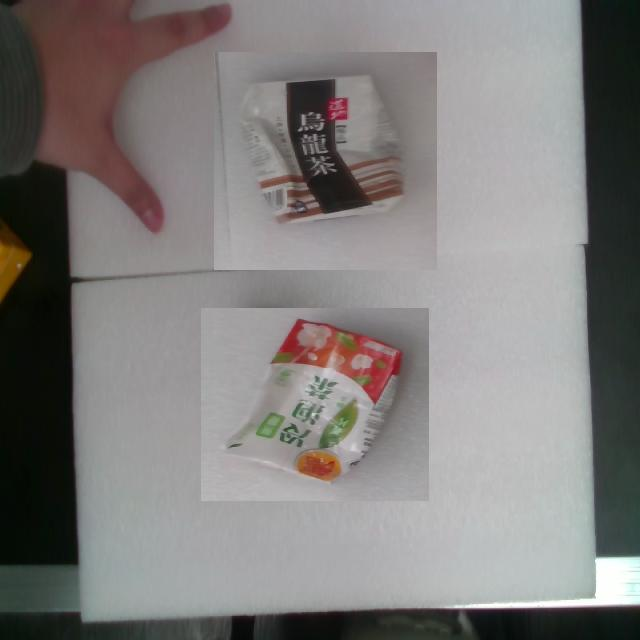juicebox: (200, 281, 429, 528), (213, 27, 438, 270)
